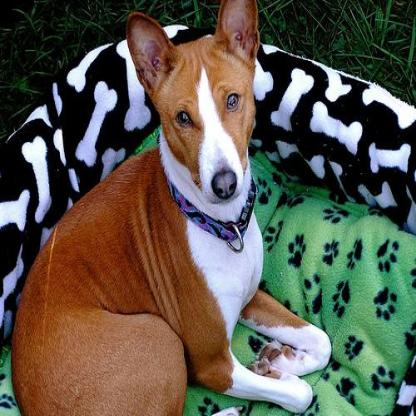basenji: (6, 6, 330, 412)
